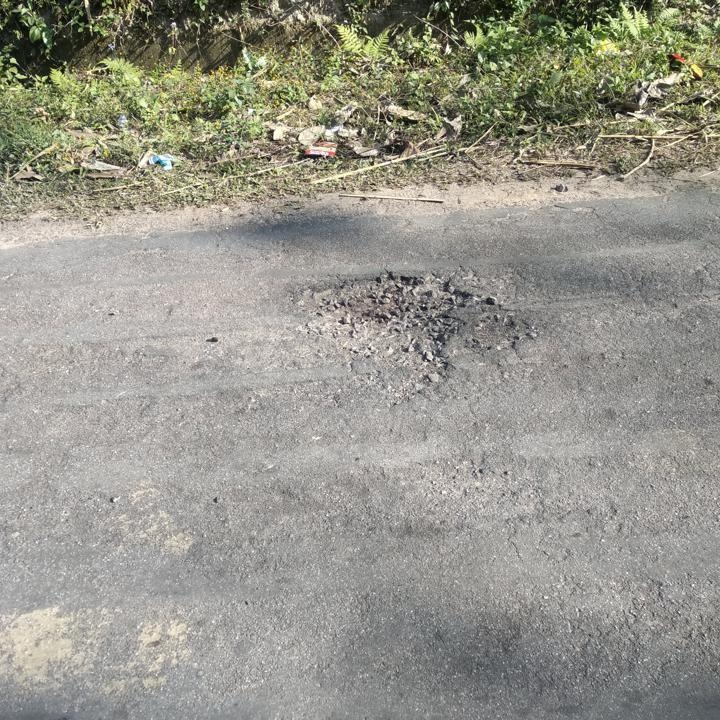pothole: (286, 270, 486, 387)
